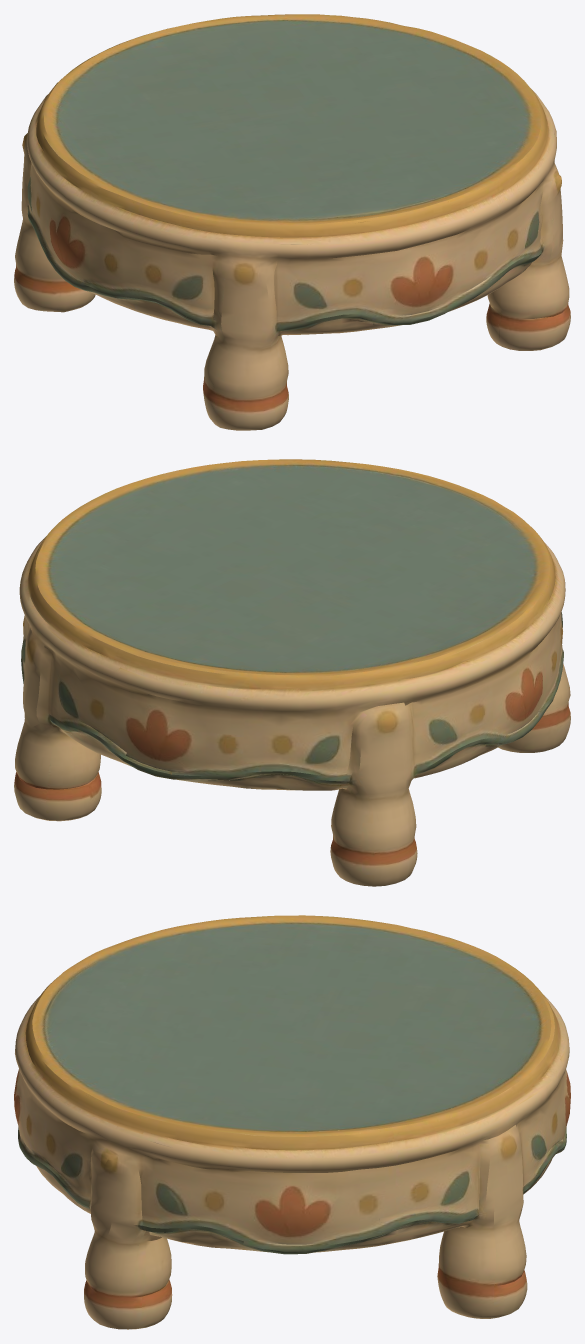
File: Meshy_AI_model.glb
3 renders of one model, top to bottom at view 1: azimuth 30°, elevation 25°; view 2: azimuth 150°, elevation 25°; view 3: azimuth 270°, elevation 25°, orthographic. The views are drawn at different scales.
Parts seen in each view (by area): view 1: Mesh0; view 2: Mesh0; view 3: Mesh0.
Part boxes in pixels (<box>): Mesh0: <box>14,14,570,430</box>; Mesh0: <box>14,459,570,886</box>; Mesh0: <box>14,915,570,1329</box>.
Size of the model in its own units: 1.89 by 0.7838 by 1.89.
1 material, 1 textured.
